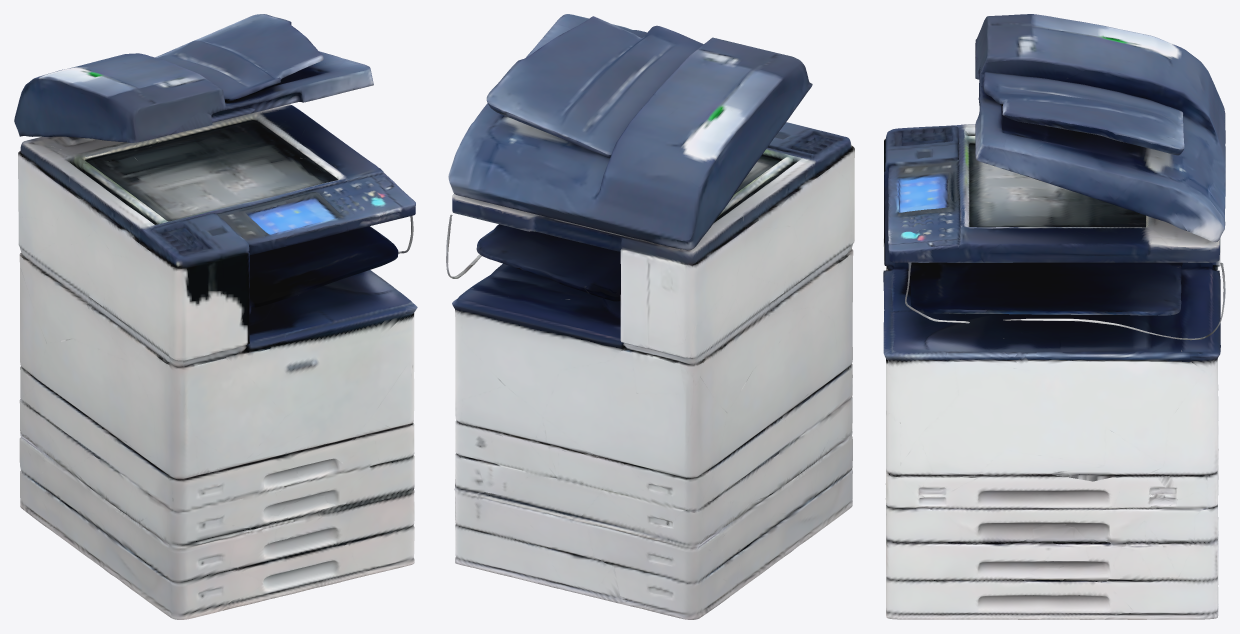
The model's file is printer.fbx.
3 renders of one model, left to right at view 1: azimuth 30°, elevation 25°; view 2: azimuth 150°, elevation 25°; view 3: azimuth 270°, elevation 25°, orthographic. The views are drawn at different scales.
Parts seen in each view (by area): view 1: root.0, root.1, root.3, root.2; view 2: root.0, root.1, root.3, root.2; view 3: root.0, root.1, root.2, root.3, root.4.
Part boxes in pixels (x1,y1,x2,y2): root.0: (18,104,417,619); root.1: (14,51,373,142); root.3: (155,14,323,102); root.2: (249,226,398,314); root.0: (452,122,854,619); root.1: (448,14,812,250); root.3: (486,16,703,157); root.2: (476,224,620,301); root.0: (883,124,1220,619); root.1: (975,14,1225,242); root.2: (910,262,1182,315); root.3: (983,72,1184,155); root.4: (905,262,1225,340).
Bounding box in the file's own units: 104 × 190 × 120.
